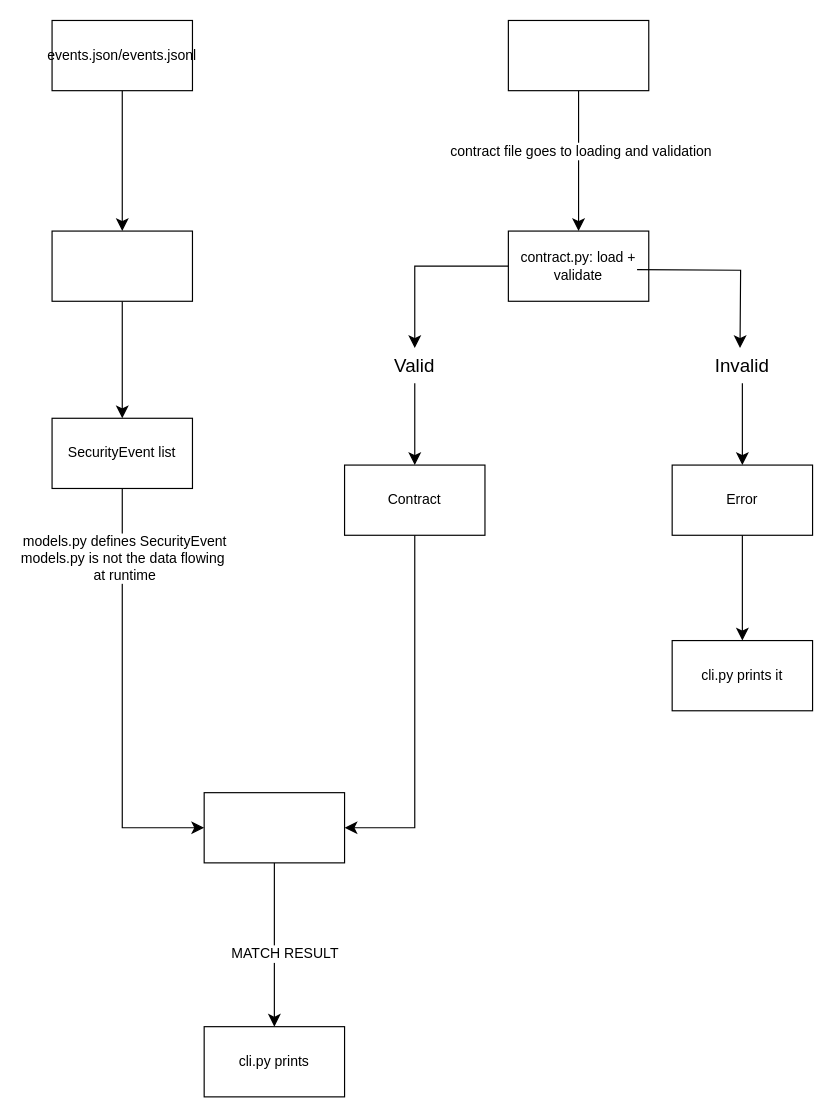
This 833x1117 diagram has some shape labels left out. The shapes that lost their labels are listed below. From the top down, each one's centre as x and y in pixels, then its label:
the point at 578,55: contract.yaml
the point at 121,265: events.py
the point at 274,827: matcher.py
